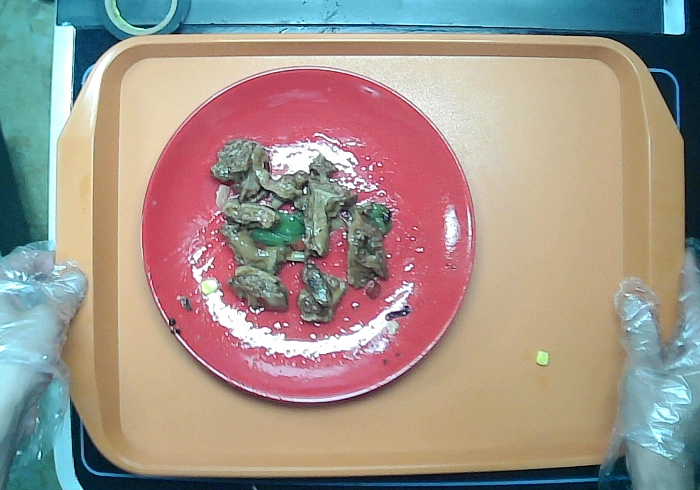HZYJPL-Hong_Se_Yuan_Pan: (135, 64, 482, 407)
